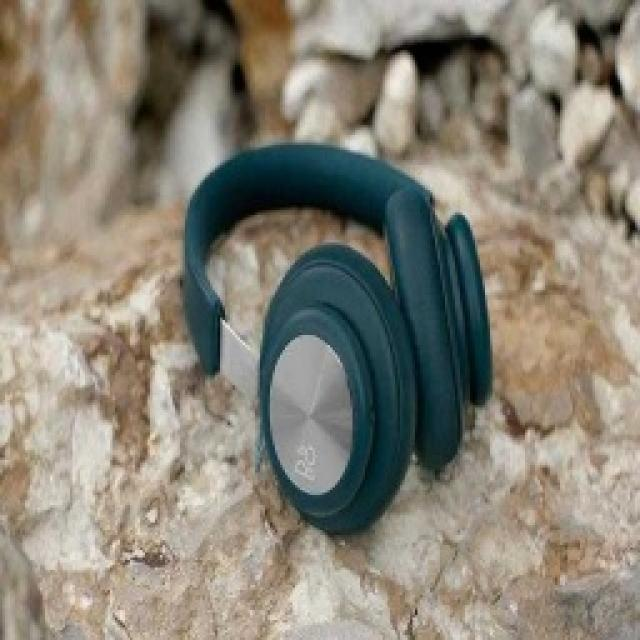headphones: (178, 137, 492, 535)
